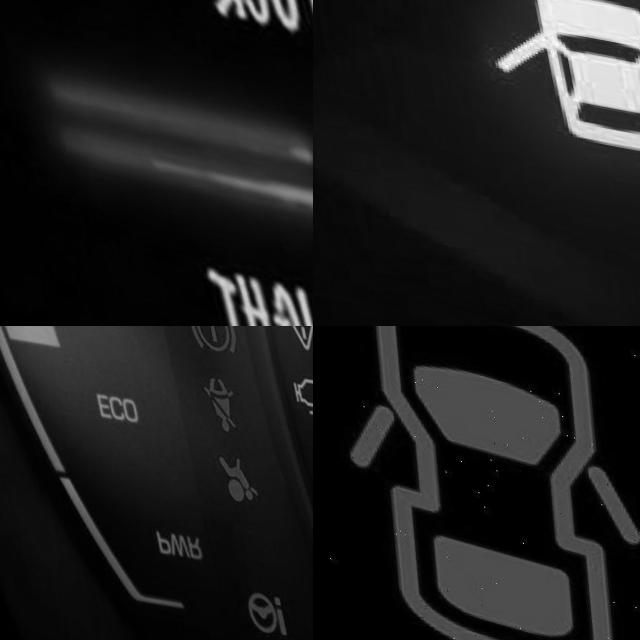Electronic Power Steering: (222, 577, 270, 628)
Seat Belt: (189, 364, 230, 423)
